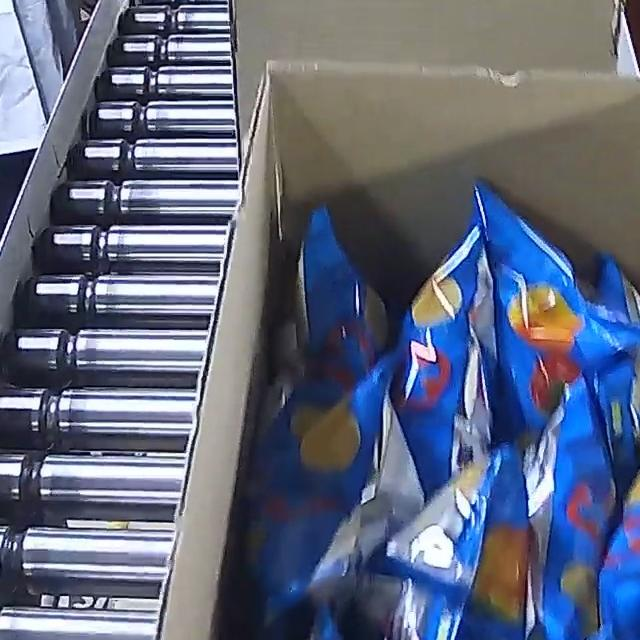paprika: (225, 177, 640, 640)
